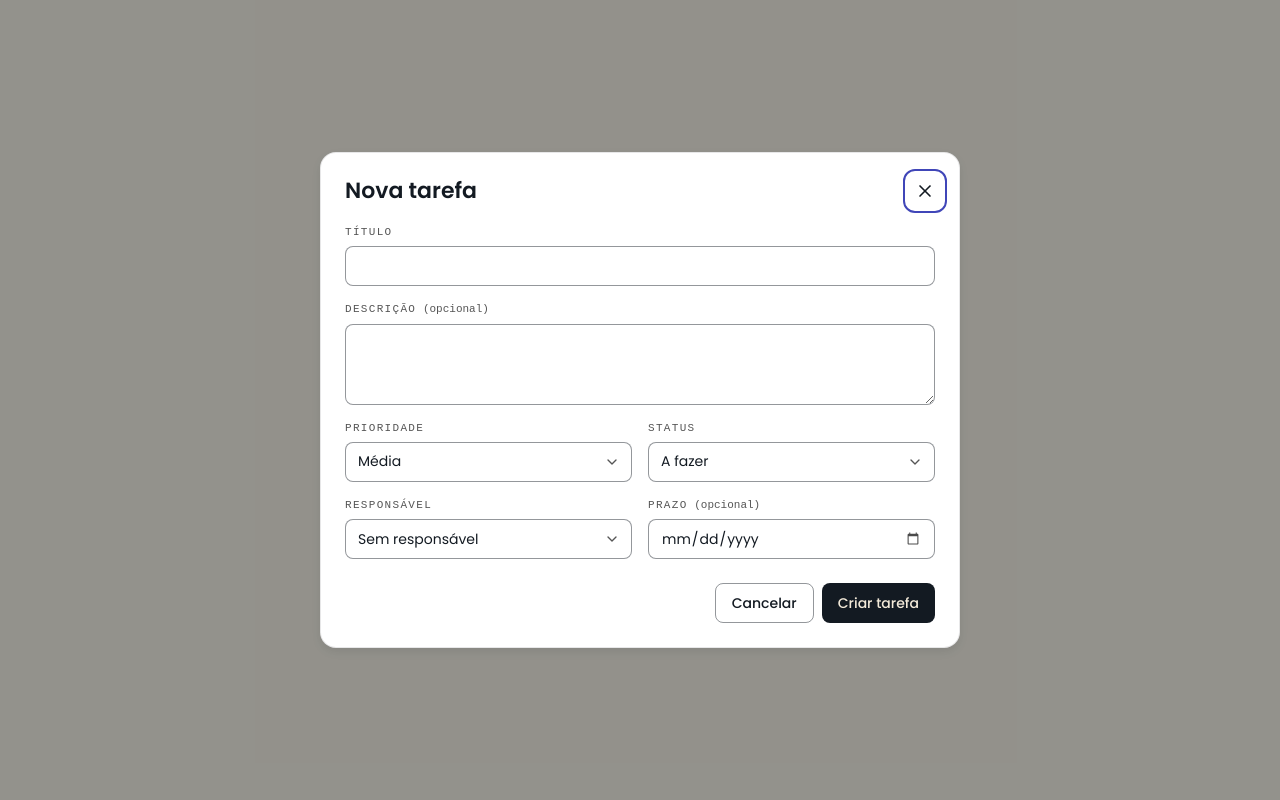
TaskDialog › rejects a one character title
The width and height of the screenshot is (1280, 800).
Type "a" into the field labelled "Título" at (640, 266), box top-left (345, 246), bottom-right (935, 286)
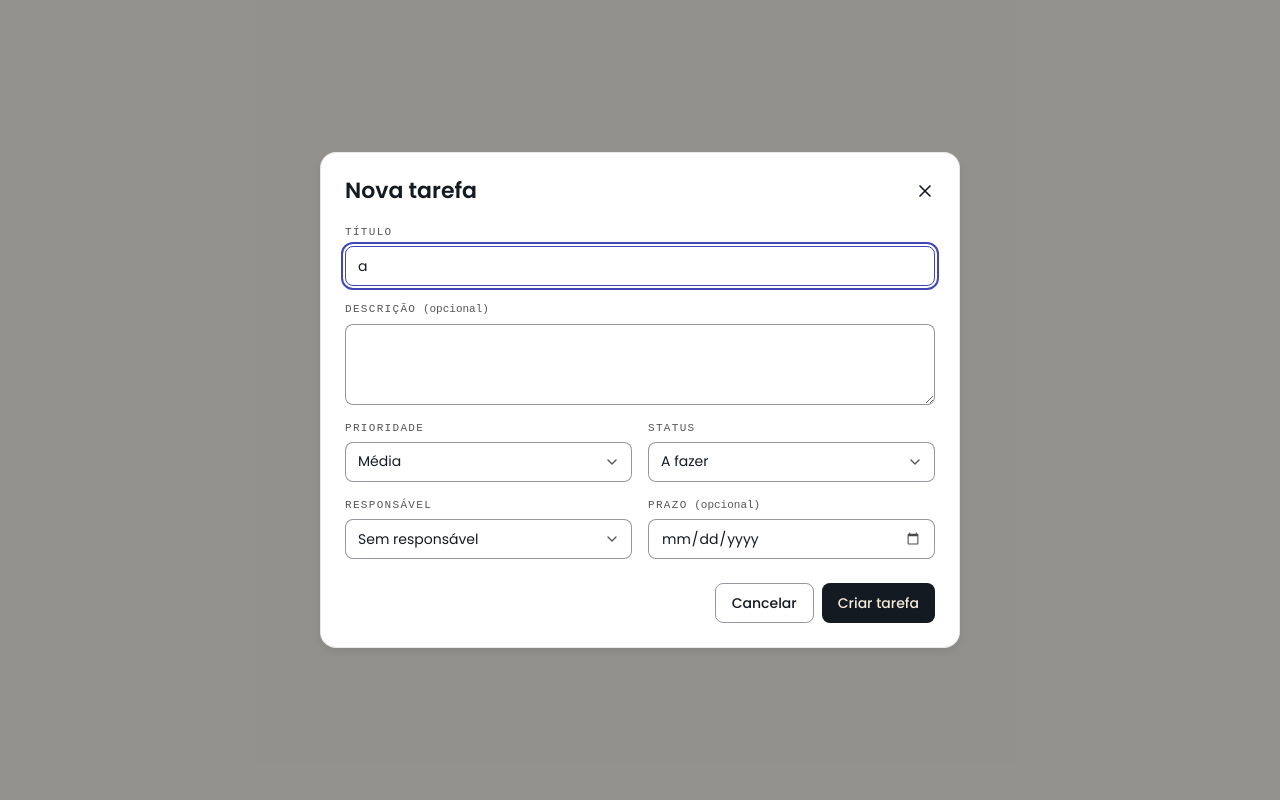
Click the button "Criar tarefa" at (878, 603), box top-left (822, 583), bottom-right (935, 623)
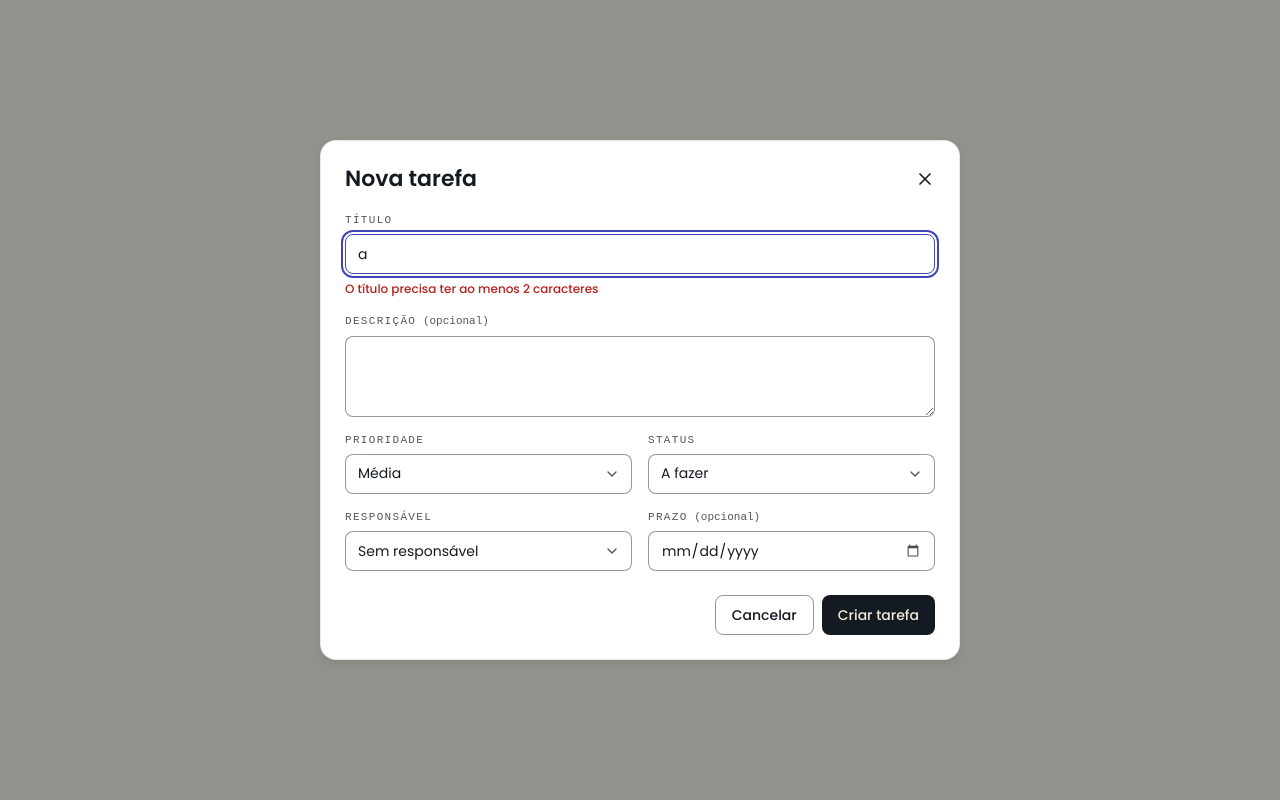
Result: the text "O título precisa ter ao menos 2 caracteres" is shown at top-left (345, 280), bottom-right (598, 297)
